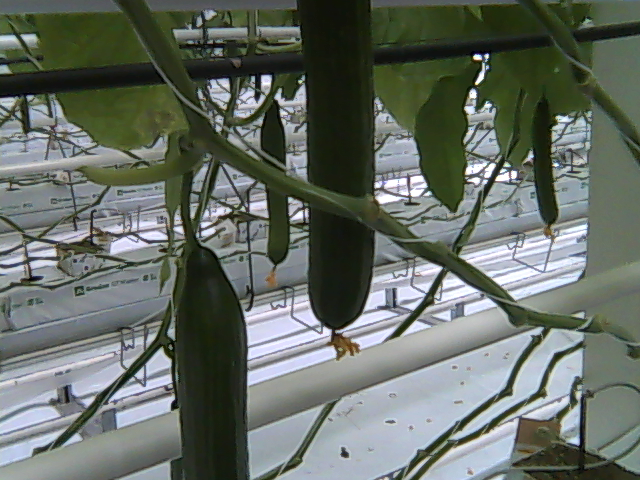concombre: (293, 1, 379, 364), (174, 240, 251, 480)
